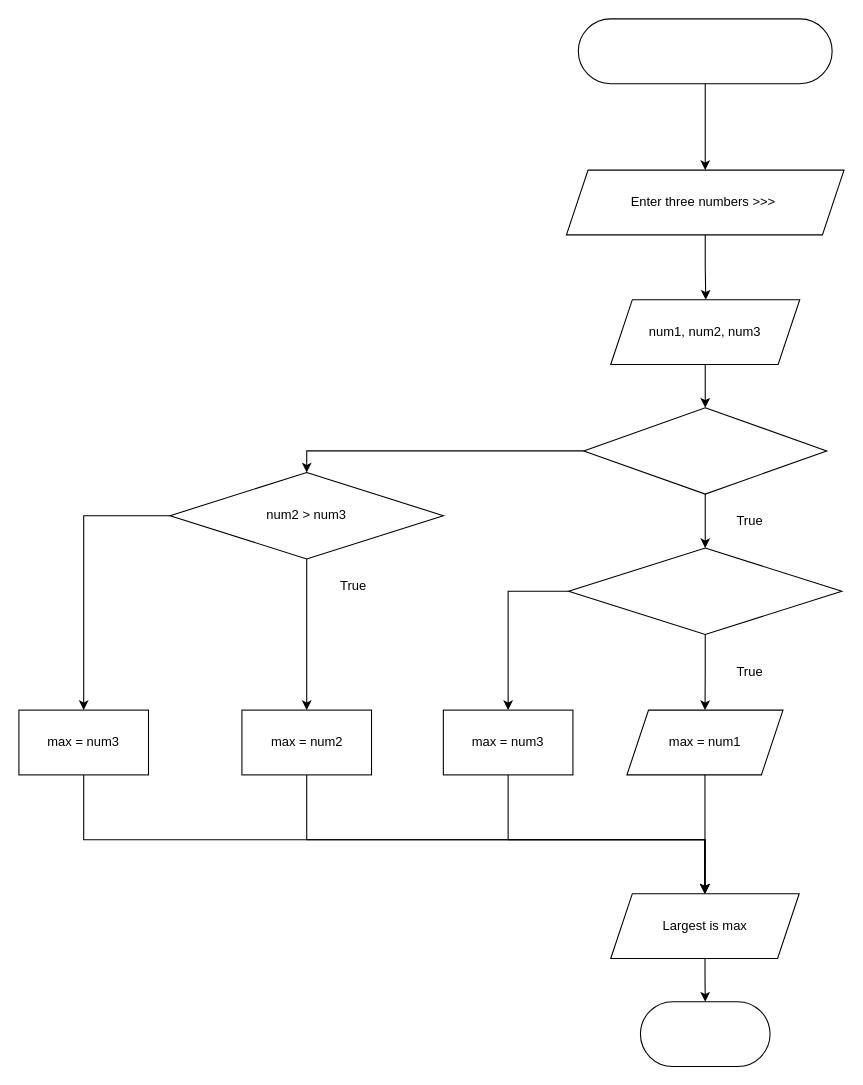
Some shapes in this 863 by 1085 pixel diagram are drawn without their labels. The box of each missing label's shape, as (x1, y1, x2, y2) in pixels:
END: (639, 1001, 770, 1066)
Largest of Three Numbers: (577, 18, 832, 84)
num1 > num2: (583, 407, 827, 494)
num1 > num3: (568, 547, 842, 634)
